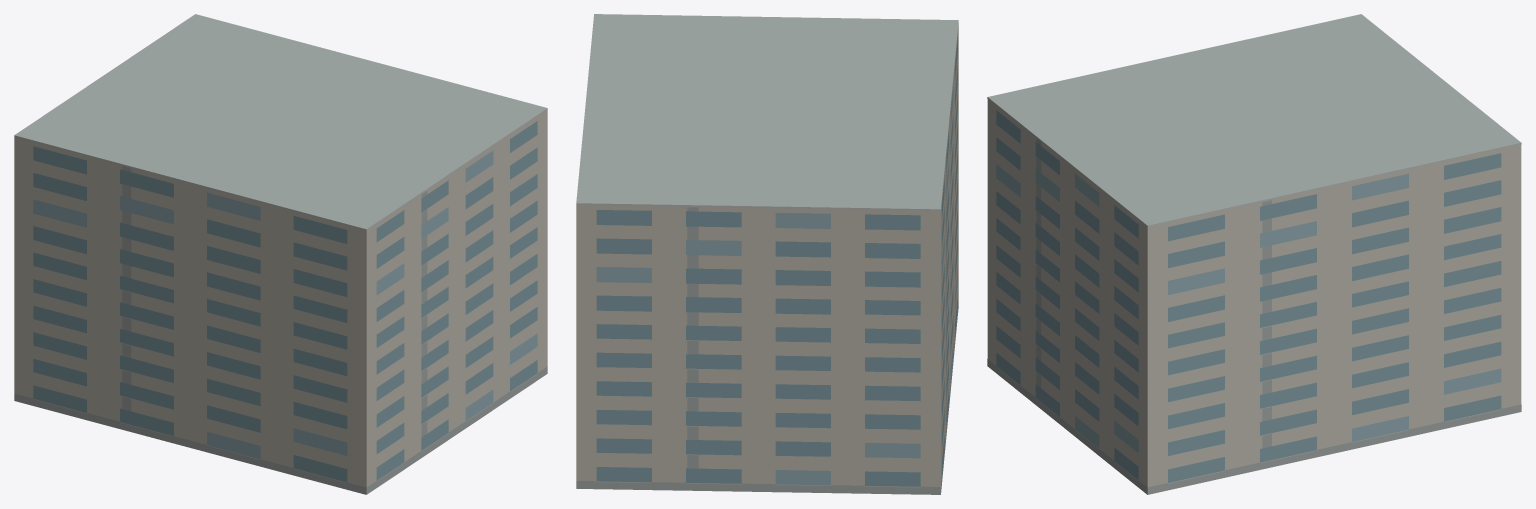
Rendered from residential-2be65816-780d-4ec0-8e14-2b2c96253099.glb.
3 views of the same model, side by side, from view 1: azimuth 30°, elevation 25°; view 2: azimuth 150°, elevation 25°; view 3: azimuth 270°, elevation 25° (orthographic). The views are drawn at different scales.
Visible parts, largest first — view 1: residential-2be65816-780d-4ec0-8e14-2b2c96253099.tmp; view 2: residential-2be65816-780d-4ec0-8e14-2b2c96253099.tmp; view 3: residential-2be65816-780d-4ec0-8e14-2b2c96253099.tmp.
Boxes of the visible parts, <box> form: residential-2be65816-780d-4ec0-8e14-2b2c96253099.tmp: <box>14,14,547,494</box>; residential-2be65816-780d-4ec0-8e14-2b2c96253099.tmp: <box>576,14,958,494</box>; residential-2be65816-780d-4ec0-8e14-2b2c96253099.tmp: <box>987,14,1521,494</box>.
Size of the model in its own units: 55.65 by 33 by 59.32.
